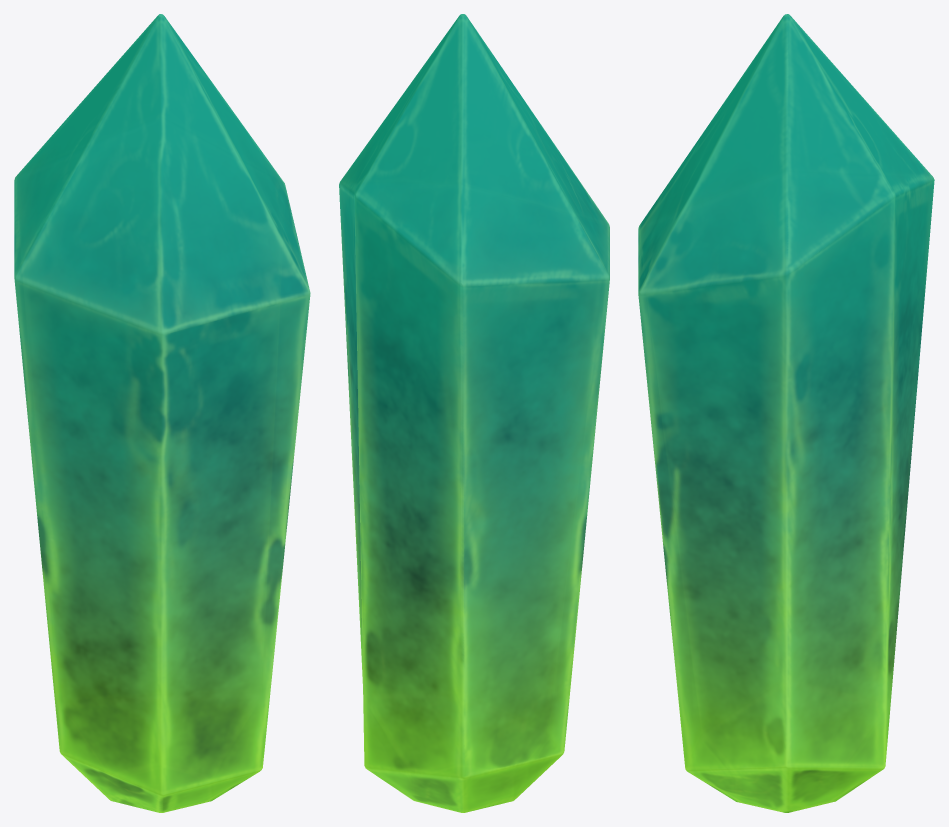
File: lilgreen.gltf
3 views of the same model, side by side, from view 1: azimuth 30°, elevation 25°; view 2: azimuth 150°, elevation 25°; view 3: azimuth 270°, elevation 25° (orthographic).
Parts seen in each view (by area): view 1: CrystalShard_low_lambert4_0; view 2: CrystalShard_low_lambert4_0; view 3: CrystalShard_low_lambert4_0.
Part boxes in pixels (x1,y1,x2,y2): CrystalShard_low_lambert4_0: (14, 14, 310, 812); CrystalShard_low_lambert4_0: (339, 14, 609, 812); CrystalShard_low_lambert4_0: (638, 14, 934, 812).
Size of the model in its own units: 0.2452 by 0.6727 by 0.233.
1 material, 1 textured.
